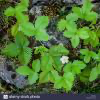Strawberry leaf: (62, 59, 86, 76), (54, 72, 75, 91), (2, 42, 23, 57), (13, 30, 30, 48), (17, 47, 33, 66), (34, 28, 54, 42), (49, 44, 70, 57), (34, 15, 51, 30), (18, 22, 36, 36), (41, 52, 54, 71), (14, 64, 34, 76), (70, 5, 85, 19), (27, 72, 40, 87), (14, 10, 27, 25), (56, 19, 69, 33), (39, 69, 51, 84), (75, 28, 90, 40), (83, 11, 99, 22), (65, 20, 77, 34), (83, 0, 93, 16), (31, 59, 42, 73), (71, 33, 81, 48), (62, 30, 78, 39), (3, 7, 16, 17), (66, 13, 80, 22), (15, 4, 29, 12), (90, 51, 99, 60), (84, 52, 91, 63), (79, 49, 90, 55)
